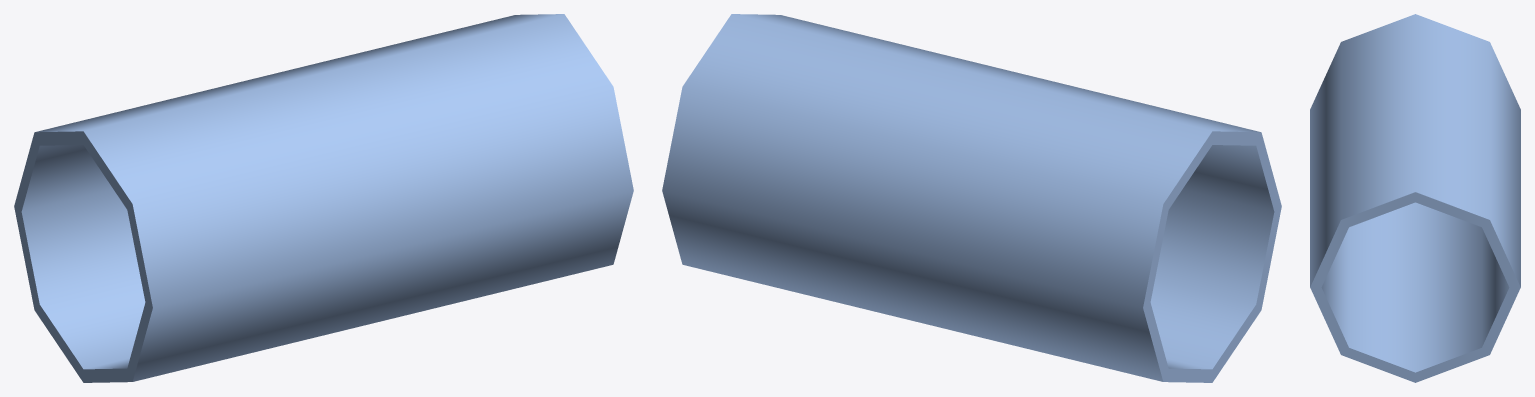
Rendered from PipeSmall_Hollow_Straight_L02.fbx.
The picture shows the model from 3 angles, left to right: view 1: azimuth 30°, elevation 25°; view 2: azimuth 150°, elevation 25°; view 3: azimuth 270°, elevation 25°; orthographic projection. The views are drawn at different scales.
Parts seen in each view (by area): view 1: PipeSmall_Hollow_Straight_L02.001; view 2: PipeSmall_Hollow_Straight_L02.001; view 3: PipeSmall_Hollow_Straight_L02.001.
Part boxes in pixels (x1,y1,x2,y2): PipeSmall_Hollow_Straight_L02.001: (14, 14, 633, 382); PipeSmall_Hollow_Straight_L02.001: (662, 14, 1281, 382); PipeSmall_Hollow_Straight_L02.001: (1310, 14, 1520, 382).
Bounding box in the file's own units: 0.2 × 0.1 × 0.1.
